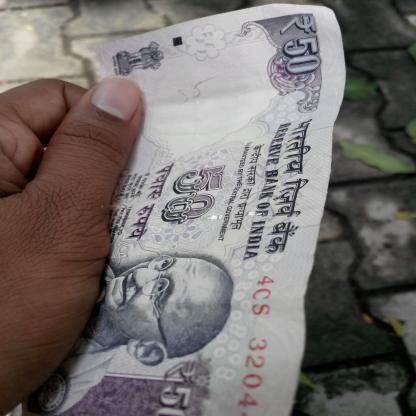Old50Front: (13, 4, 346, 416)
